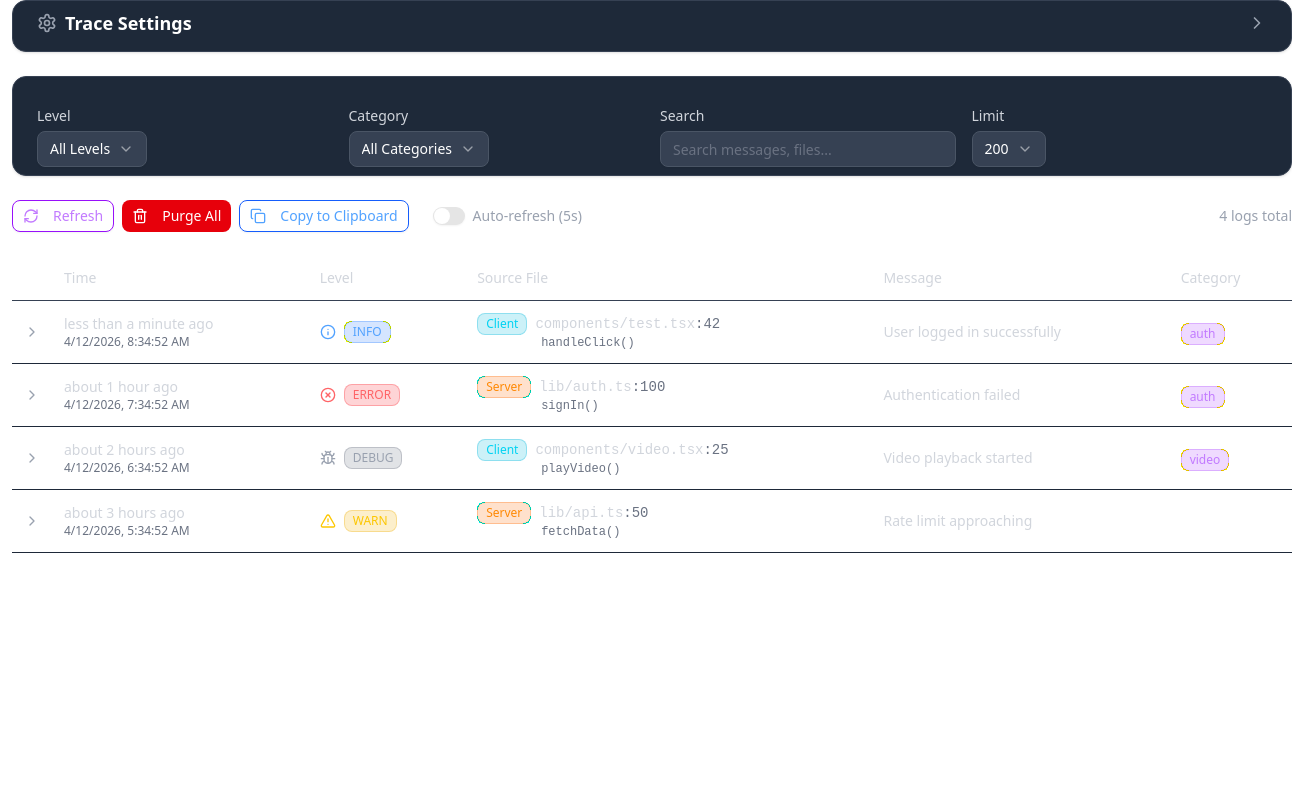
Test: TraceDashboard › should show 'Copied!' after successful copy
Expected: the text "User logged in successfully" is shown, [883,322,1061,341]
Click the button "Copy to Clipboard" at [324, 216], box [239,200,409,232]
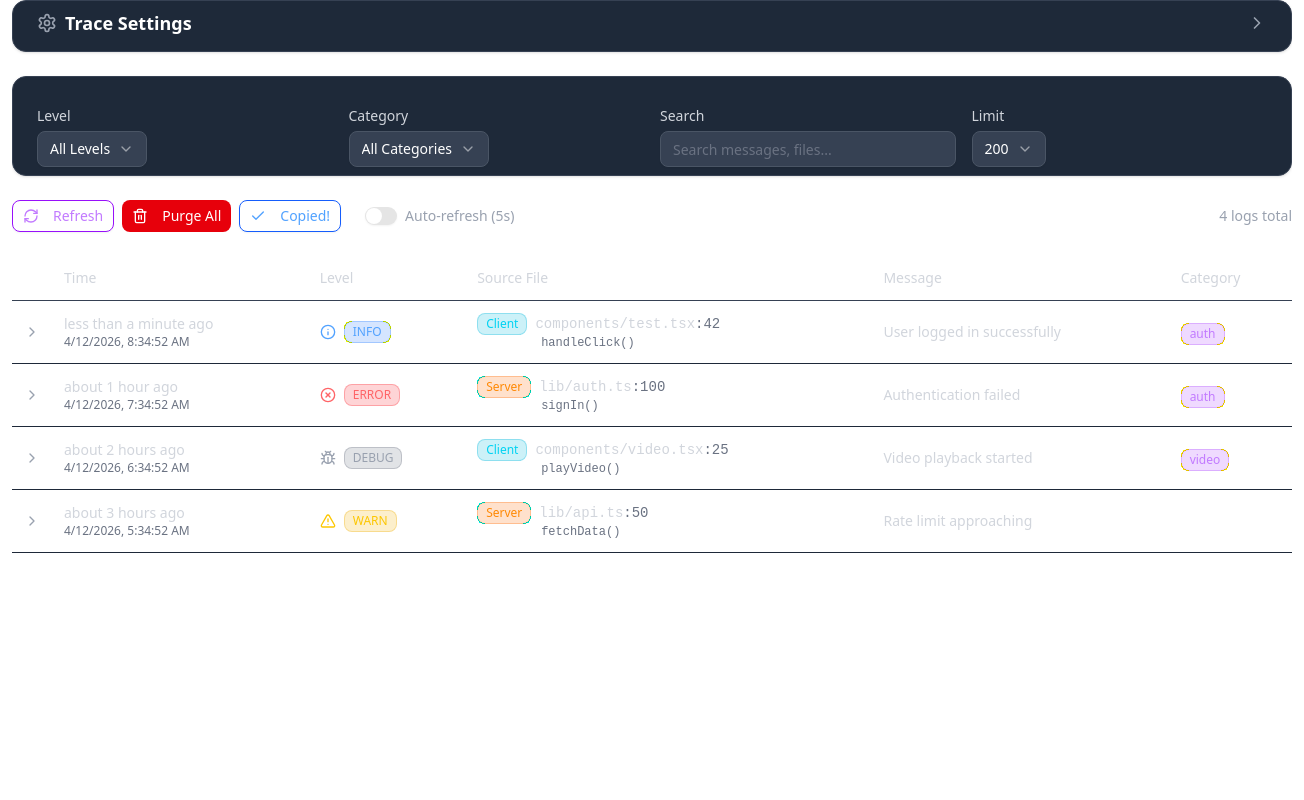
Expected: the button "Copied!" is shown, [239,200,341,232]
